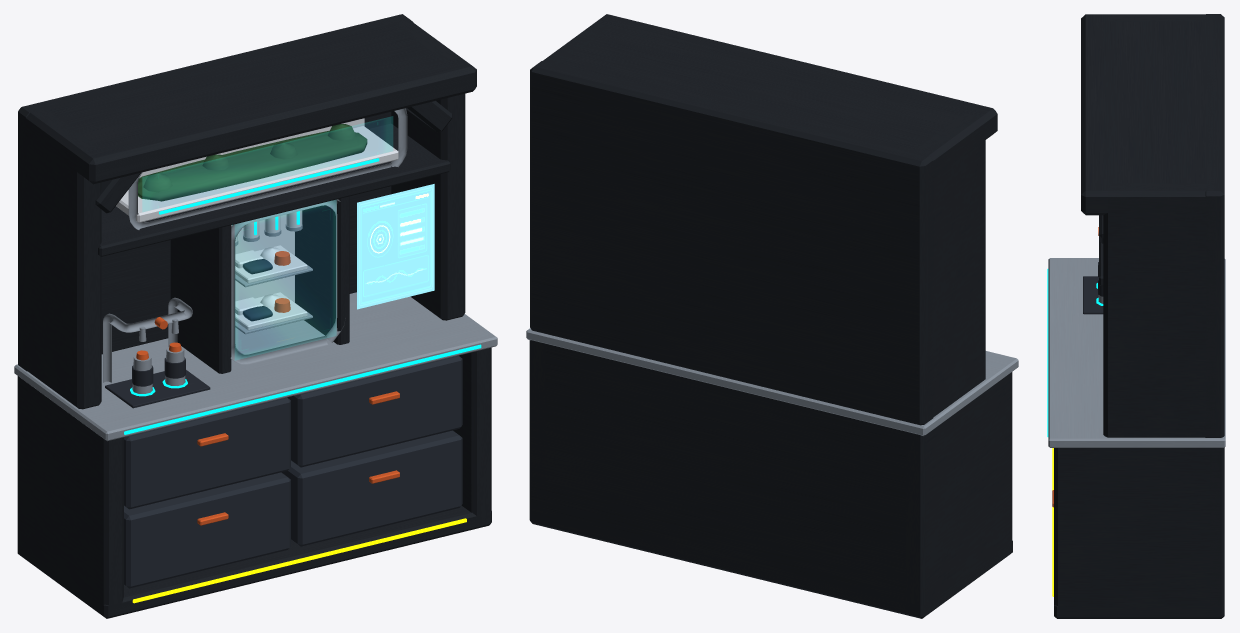
The model's file is galley_synth_r1_01.glb.
3 renders of one model, left to right at view 1: azimuth 30°, elevation 25°; view 2: azimuth 150°, elevation 25°; view 3: azimuth 270°, elevation 25°, orthographic. The views are drawn at different scales.
Visible parts, largest first — view 1: Galley01_OctagonalGunmetalBulkhead, Galley01_CarbonSlateDrawers, Galley01_MachinedCounterTapAndRacks, Galley01_TranslucentSynthChamberGlass, Galley01_WhiteTraysCanistersAndLiner, Galley01_OLEDNutriSynthesizer, Galley01_AeroponicCulinaryHerbs, Galley01_CyanCoastersAndCounterLED, Galley01_CharcoalPadsAndFlaskGrips, Galley01_SignalOrangeValvesAndLatches, Galley01_AmberInductionAndKickLED, Galley01_NavyRationPouches; view 2: Galley01_OctagonalGunmetalBulkhead, Galley01_MachinedCounterTapAndRacks; view 3: Galley01_OctagonalGunmetalBulkhead, Galley01_MachinedCounterTapAndRacks, Galley01_CharcoalPadsAndFlaskGrips, Galley01_CyanCoastersAndCounterLED, Galley01_AmberInductionAndKickLED.
Boxes of the visible parts, x1,y1,x2,y2 form: Galley01_OctagonalGunmetalBulkhead: (17, 14, 491, 618); Galley01_CarbonSlateDrawers: (124, 355, 462, 588); Galley01_MachinedCounterTapAndRacks: (14, 108, 497, 441); Galley01_TranslucentSynthChamberGlass: (143, 116, 392, 359); Galley01_WhiteTraysCanistersAndLiner: (116, 118, 398, 330); Galley01_OLEDNutriSynthesizer: (357, 184, 434, 309); Galley01_AeroponicCulinaryHerbs: (138, 124, 367, 201); Galley01_CyanCoastersAndCounterLED: (124, 158, 481, 434); Galley01_CharcoalPadsAndFlaskGrips: (105, 357, 210, 408); Galley01_SignalOrangeValvesAndLatches: (136, 251, 399, 525); Galley01_AmberInductionAndKickLED: (132, 518, 466, 603); Galley01_NavyRationPouches: (242, 259, 272, 321); Galley01_OctagonalGunmetalBulkhead: (529, 14, 1012, 618); Galley01_MachinedCounterTapAndRacks: (526, 328, 1018, 435); Galley01_OctagonalGunmetalBulkhead: (1054, 14, 1224, 618); Galley01_MachinedCounterTapAndRacks: (1048, 258, 1225, 447); Galley01_CharcoalPadsAndFlaskGrips: (1083, 262, 1103, 314); Galley01_CyanCoastersAndCounterLED: (1047, 269, 1103, 436); Galley01_AmberInductionAndKickLED: (1052, 448, 1053, 596).
Bounding box in the file's own units: 1.92 × 2.1 × 0.7952.
Materials: 13 (13 with a texture image).
